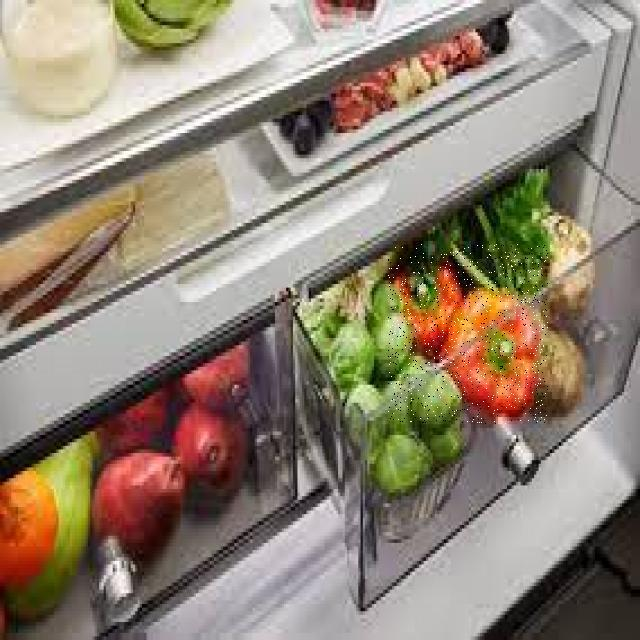peppers: (388, 244, 548, 424)
